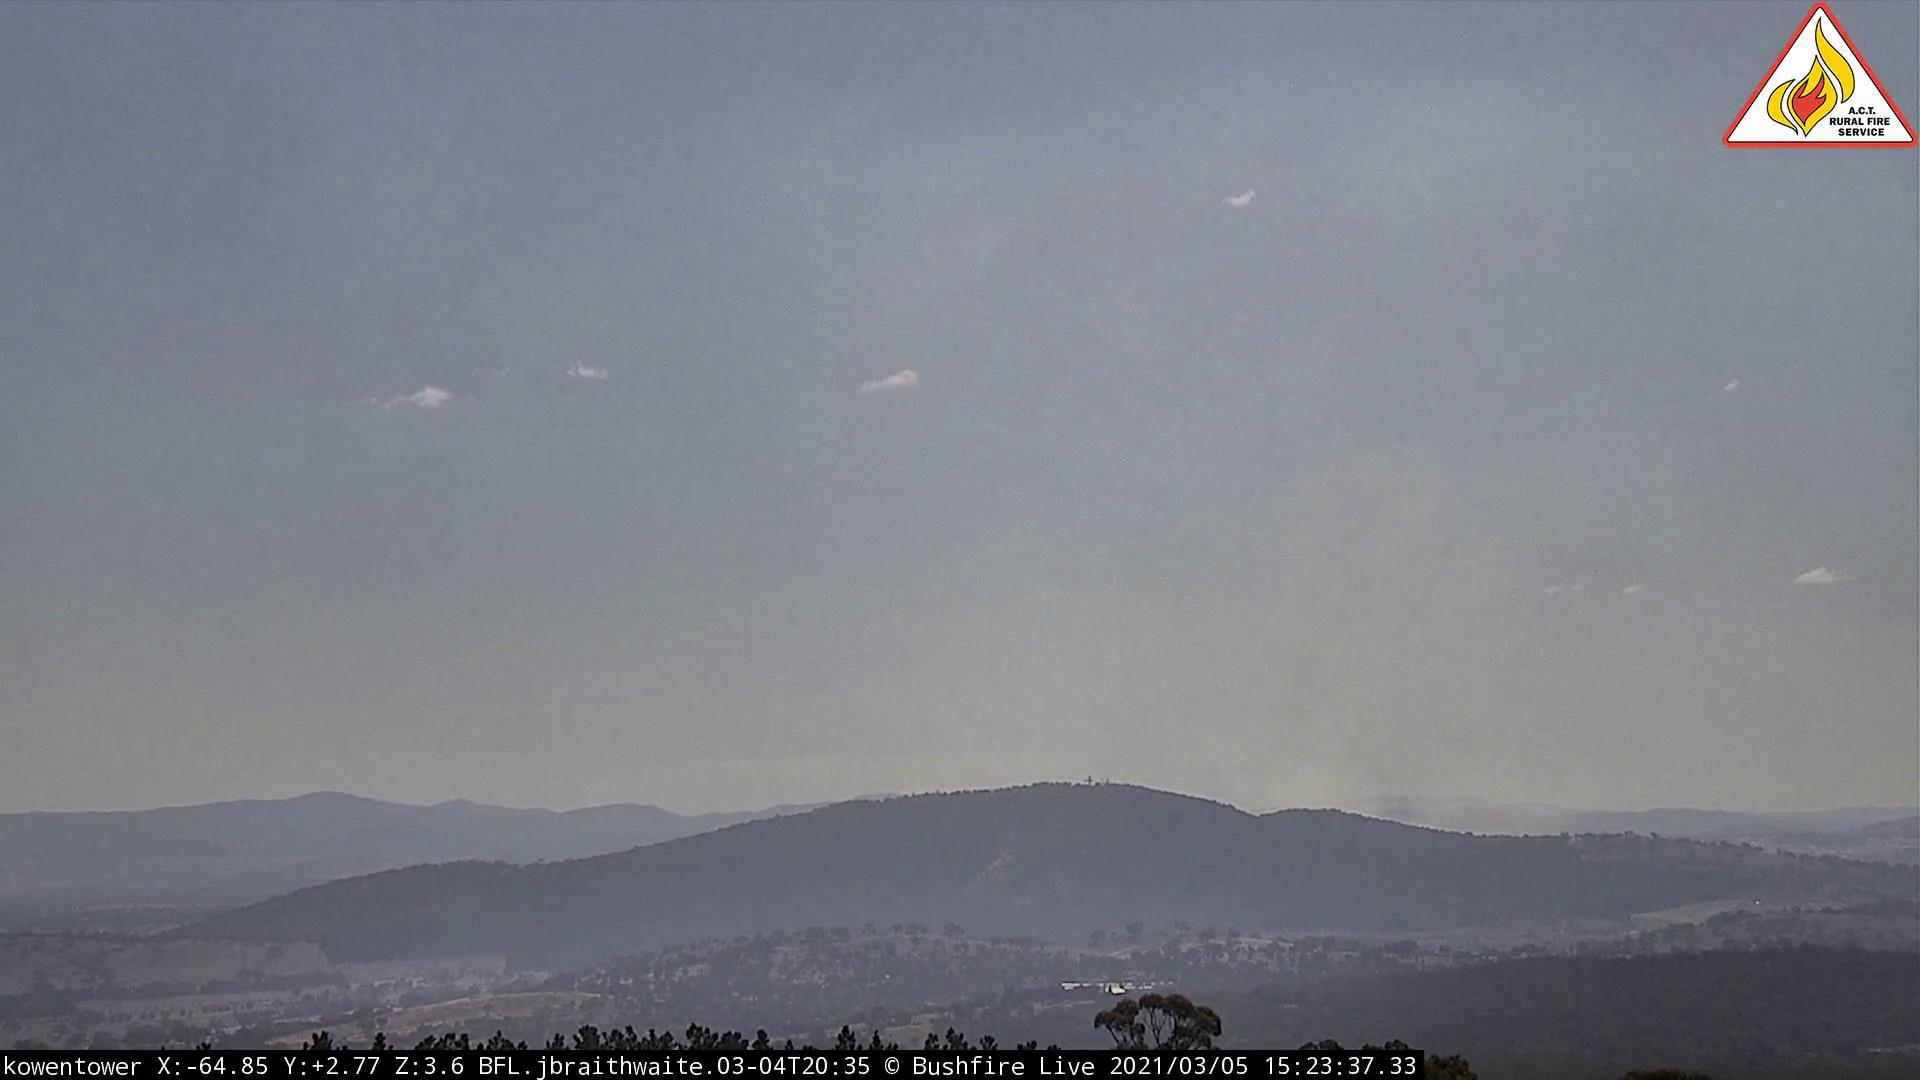Smoke: (702, 444, 1571, 839)
